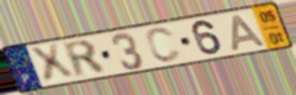3: (110, 31, 145, 72)
6: (191, 19, 224, 57)
A: (230, 13, 268, 53)
C: (143, 26, 184, 64)
R: (60, 39, 110, 80)
X: (27, 42, 78, 85)
